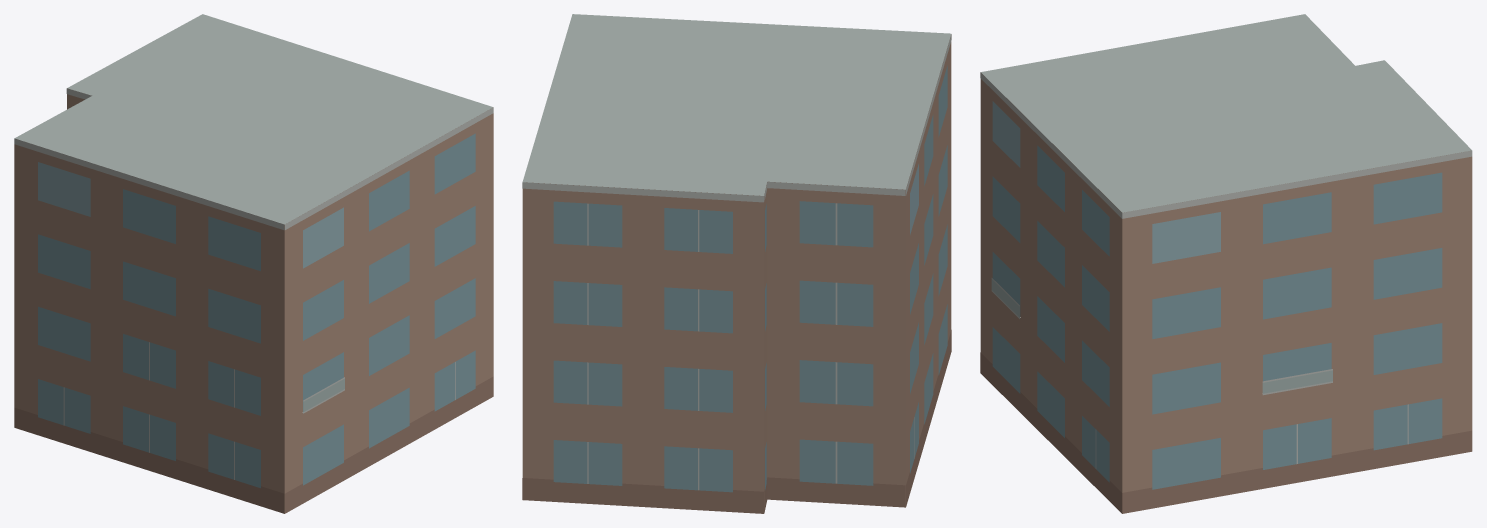
File: survey-upis-32908708.glb
3 views of the same model, side by side, from view 1: azimuth 30°, elevation 25°; view 2: azimuth 150°, elevation 25°; view 3: azimuth 270°, elevation 25° (orthographic). The views are drawn at different scales.
Parts seen in each view (by area): view 1: survey-upis-32908708.tmp; view 2: survey-upis-32908708.tmp; view 3: survey-upis-32908708.tmp.
Part boxes in pixels (x1,y1,x2,y2): survey-upis-32908708.tmp: [14, 14, 493, 513]; survey-upis-32908708.tmp: [522, 14, 951, 513]; survey-upis-32908708.tmp: [980, 14, 1472, 513].
Bounding box in the file's own units: 17 × 12 × 17.77.
